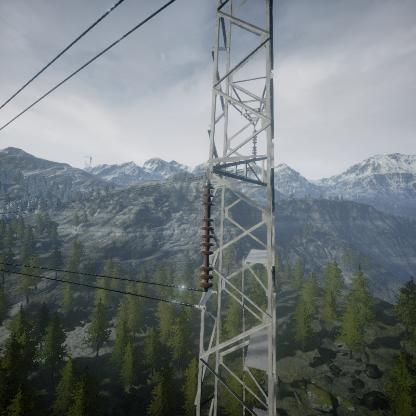insulator: (198, 180, 216, 293), (252, 128, 257, 166)
